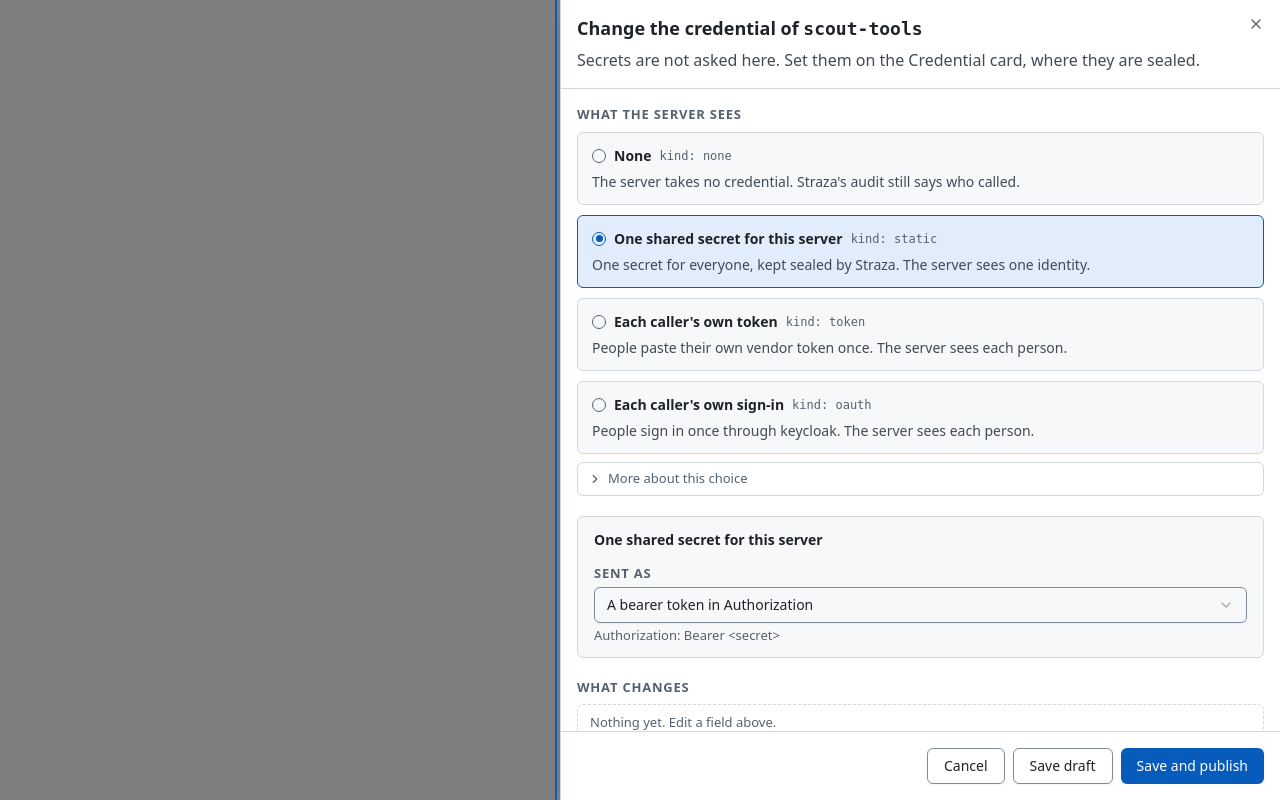
Test: the Change sheets of a server's Overview › gives each person their own token and says what happens to the shared secret
Expected: the dialog "Change the credential of scout-tools" is shown, x1=560 y1=0 x2=1279 y2=799
Click the radio button with aria-label "credential token".
click(696, 322)  # box x1=578 y1=299 x2=1263 y2=370
(page scrolled)
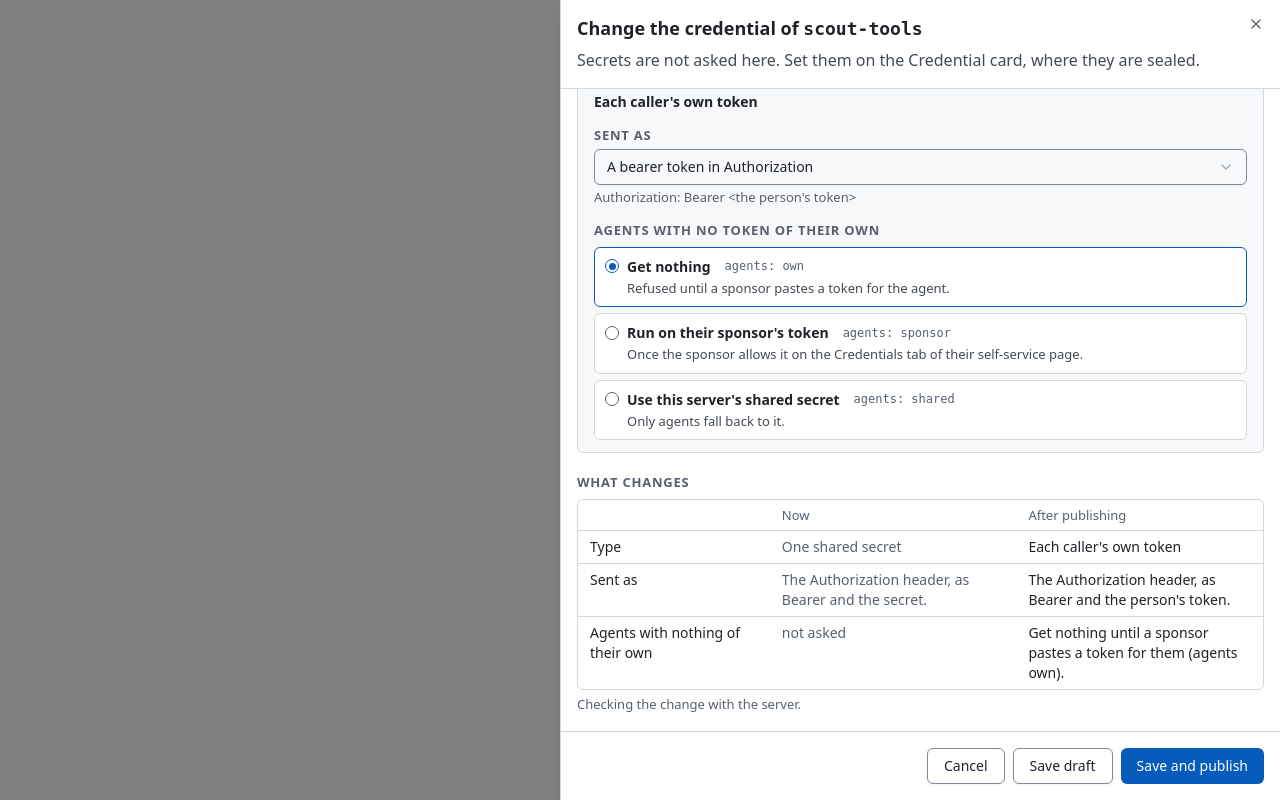
Expected: the radio button with aria-label "agents shared" shows "Only agents fall back to it."
Click the radio button with aria-label "agents shared".
click(733, 399)  # box x1=595 y1=381 x2=1246 y2=439
(page scrolled)
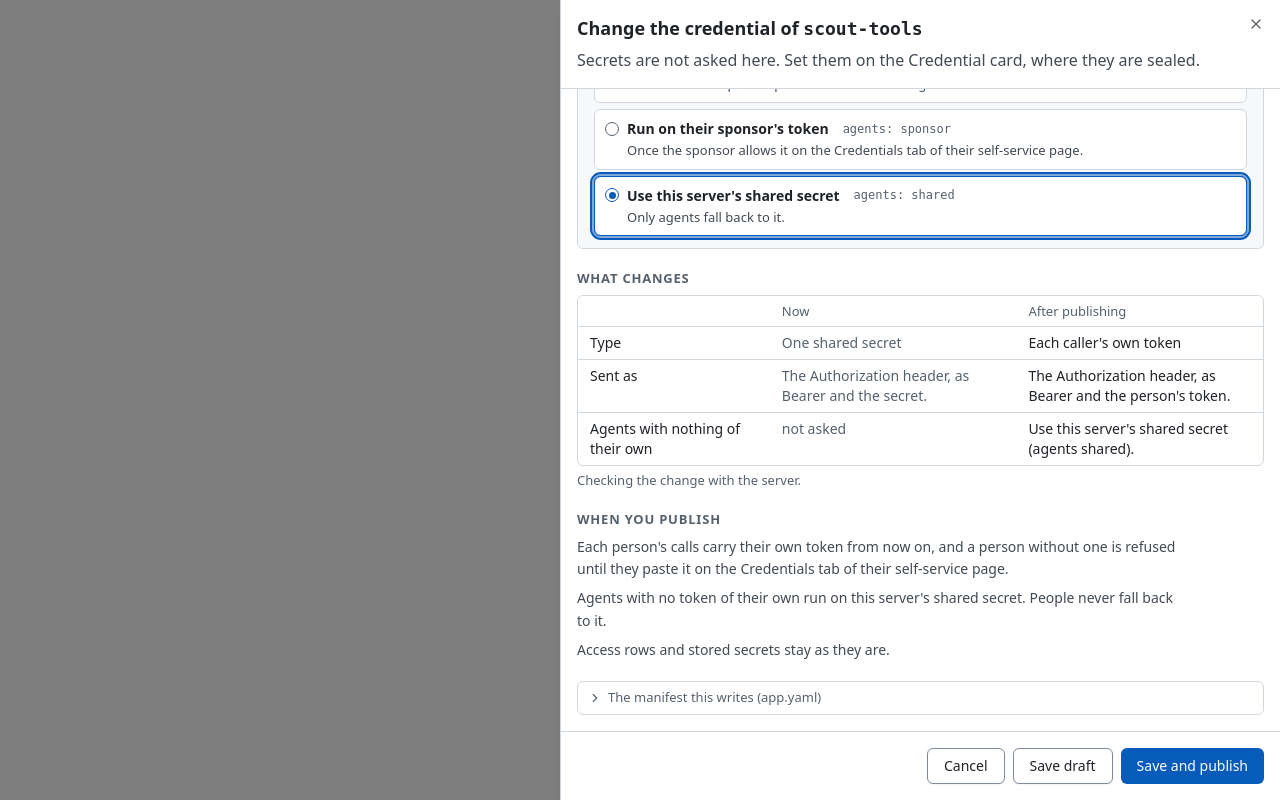
Expected: the text "Agents with no token of their own run on this server's shared secret. People never fall back to it." is shown, x1=577 y1=588 x2=1173 y2=630
